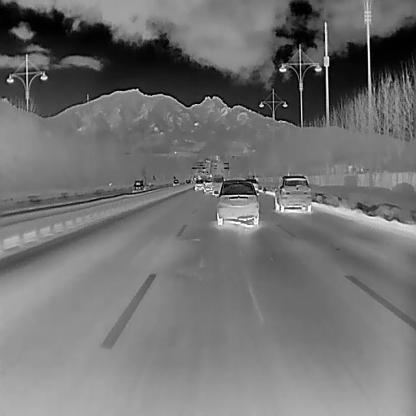car: (216, 179, 259, 226), (273, 175, 311, 211), (211, 175, 223, 196), (245, 177, 258, 193), (131, 180, 145, 193), (204, 178, 213, 192), (194, 179, 204, 190), (171, 178, 179, 186), (183, 177, 191, 185)
